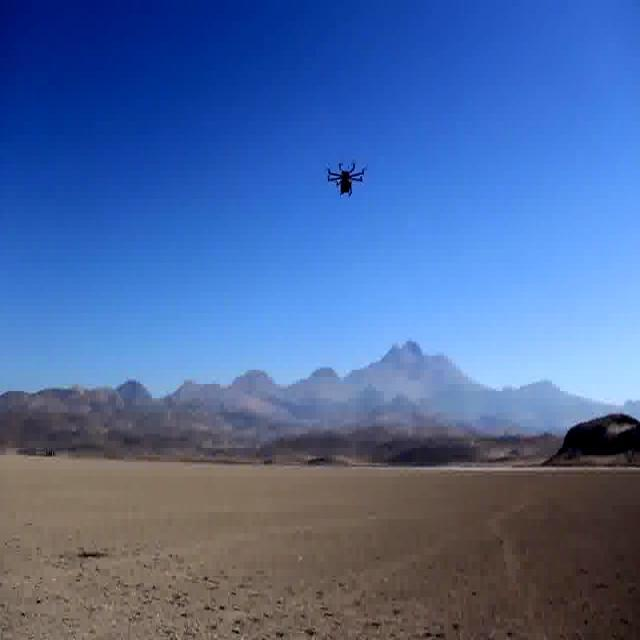drone: (323, 150, 368, 198)
